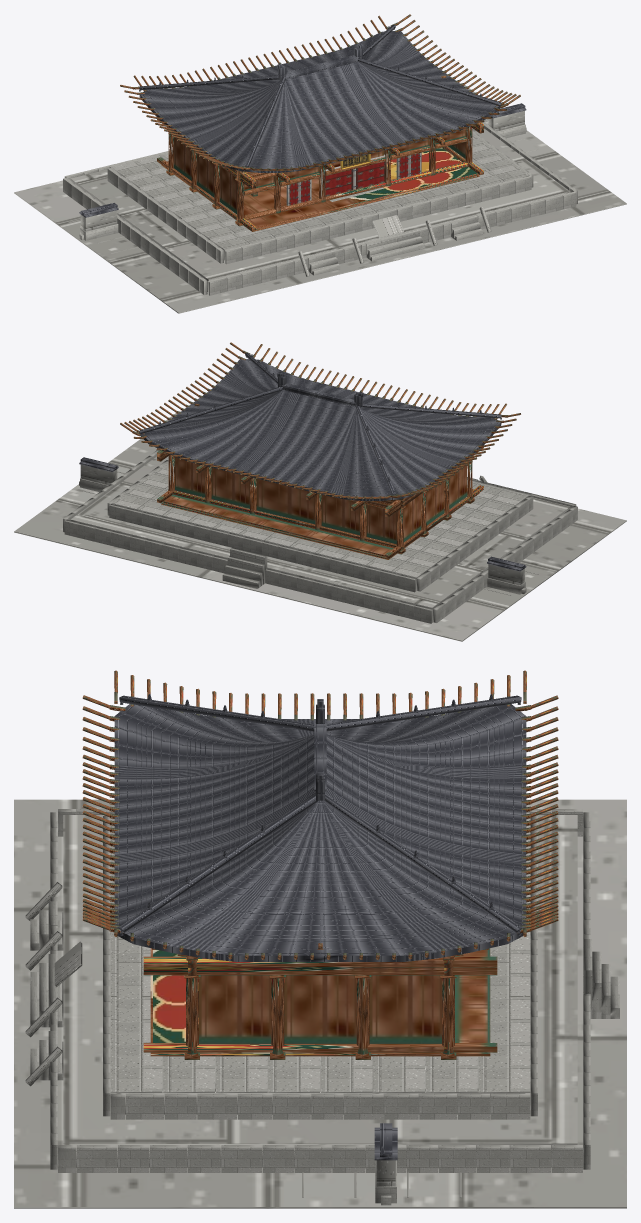
3 views of the same model, one above another, from view 1: azimuth 30°, elevation 25°; view 2: azimuth 150°, elevation 25°; view 3: azimuth 270°, elevation 25° (orthographic). The views are drawn at different scales.
Visible parts, largest first — view 1: 11140_02_04519_002_01__wolldae_granite_platform, 11140_02_04519_002_03__paljak_roof_giwa, 11140_02_04519_002_02__jeongjeon_timber_frame, 11140_02_04519_002_06__boseok_plaza_paving, 11140_02_04519_002_03__seokkarae_buyeon_double_eave, 11140_02_04519_002_03__yongmaru_japsang_punggyeong, 11140_02_04519_002_05__panmun_red_lacquer_3sets, 11140_02_04519_002_06__hoerang_stone_wall, 11140_02_04519_002_06__hoerang_tile_cap; view 2: 11140_02_04519_002_01__wolldae_granite_platform, 11140_02_04519_002_03__paljak_roof_giwa, 11140_02_04519_002_02__jeongjeon_timber_frame, 11140_02_04519_002_06__boseok_plaza_paving, 11140_02_04519_002_03__seokkarae_buyeon_double_eave, 11140_02_04519_002_03__yongmaru_japsang_punggyeong, 11140_02_04519_002_06__hoerang_stone_wall, 11140_02_04519_002_06__hoerang_tile_cap; view 3: 11140_02_04519_002_01__wolldae_granite_platform, 11140_02_04519_002_03__paljak_roof_giwa, 11140_02_04519_002_06__boseok_plaza_paving, 11140_02_04519_002_02__jeongjeon_timber_frame, 11140_02_04519_002_03__seokkarae_buyeon_double_eave, 11140_02_04519_002_03__yongmaru_japsang_punggyeong, 11140_02_04519_002_06__hoerang_stone_wall, 11140_02_04519_002_06__hoerang_tile_cap.
Part boxes in pixels (bbox=[...]): 11140_02_04519_002_01__wolldae_granite_platform: bbox=[63, 122, 577, 295]; 11140_02_04519_002_03__paljak_roof_giwa: bbox=[139, 30, 500, 172]; 11140_02_04519_002_02__jeongjeon_timber_frame: bbox=[157, 119, 483, 231]; 11140_02_04519_002_06__boseok_plaza_paving: bbox=[14, 83, 626, 313]; 11140_02_04519_002_03__seokkarae_buyeon_double_eave: bbox=[120, 14, 520, 171]; 11140_02_04519_002_03__yongmaru_japsang_punggyeong: bbox=[139, 25, 501, 167]; 11140_02_04519_002_05__panmun_red_lacquer_3sets: bbox=[286, 152, 421, 205]; 11140_02_04519_002_06__hoerang_stone_wall: bbox=[79, 110, 526, 240]; 11140_02_04519_002_06__hoerang_tile_cap: bbox=[79, 103, 526, 217]; 11140_02_04519_002_01__wolldae_granite_platform: bbox=[63, 450, 577, 623]; 11140_02_04519_002_03__paljak_roof_giwa: bbox=[140, 359, 501, 500]; 11140_02_04519_002_02__jeongjeon_timber_frame: bbox=[157, 447, 483, 559]; 11140_02_04519_002_06__boseok_plaza_paving: bbox=[14, 411, 626, 641]; 11140_02_04519_002_03__seokkarae_buyeon_double_eave: bbox=[120, 342, 520, 499]; 11140_02_04519_002_03__yongmaru_japsang_punggyeong: bbox=[139, 353, 501, 495]; 11140_02_04519_002_06__hoerang_stone_wall: bbox=[79, 464, 526, 594]; 11140_02_04519_002_06__hoerang_tile_cap: bbox=[79, 457, 526, 571]; 11140_02_04519_002_01__wolldae_granite_platform: bbox=[25, 809, 619, 1172]; 11140_02_04519_002_03__paljak_roof_giwa: bbox=[114, 704, 526, 961]; 11140_02_04519_002_06__boseok_plaza_paving: bbox=[14, 799, 626, 1208]; 11140_02_04519_002_02__jeongjeon_timber_frame: bbox=[143, 948, 497, 1059]; 11140_02_04519_002_03__seokkarae_buyeon_double_eave: bbox=[82, 670, 558, 959]; 11140_02_04519_002_03__yongmaru_japsang_punggyeong: bbox=[119, 694, 521, 935]; 11140_02_04519_002_06__hoerang_stone_wall: bbox=[375, 1160, 396, 1205]; 11140_02_04519_002_06__hoerang_tile_cap: bbox=[374, 1123, 397, 1160].
Bounding box in the file's own units: 44 × 13.49 × 28.
Materials: 7 (7 with a texture image).
